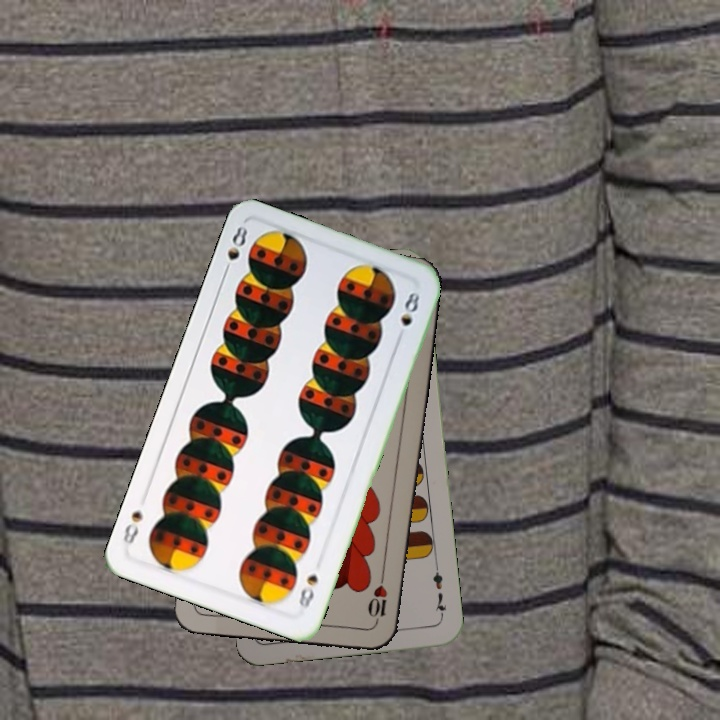E7: (428, 561, 450, 620)
H10: (366, 568, 390, 627)
S8: (219, 222, 250, 278), (294, 570, 321, 611)
